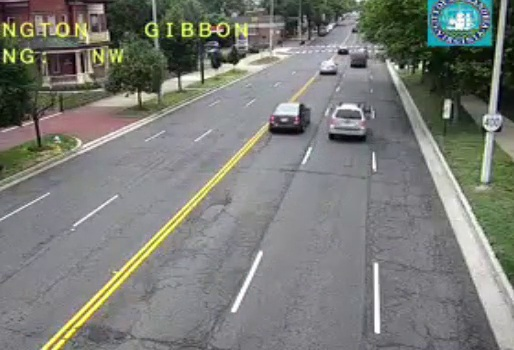car: (328, 104, 365, 136), (270, 103, 310, 130), (319, 60, 338, 74)
